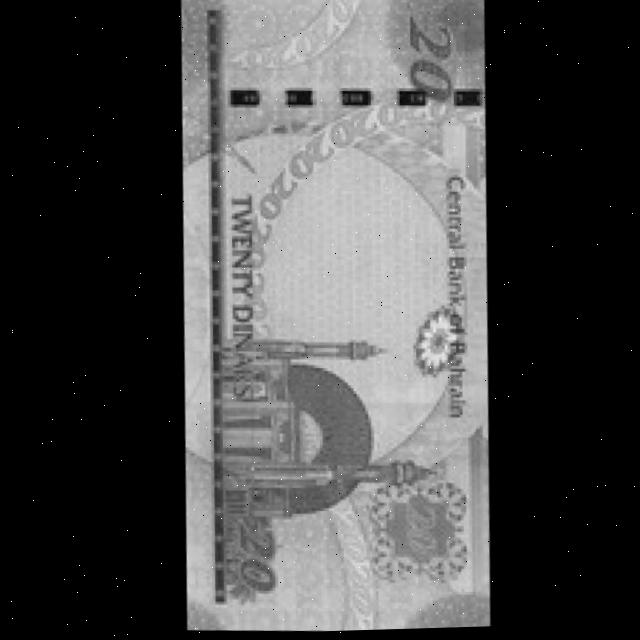banknote: (157, 0, 507, 636)
